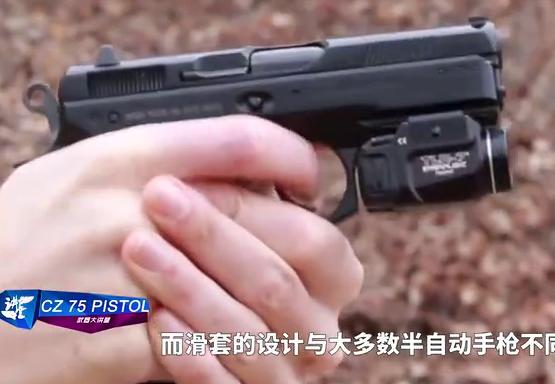gun: (1, 1, 555, 384)
